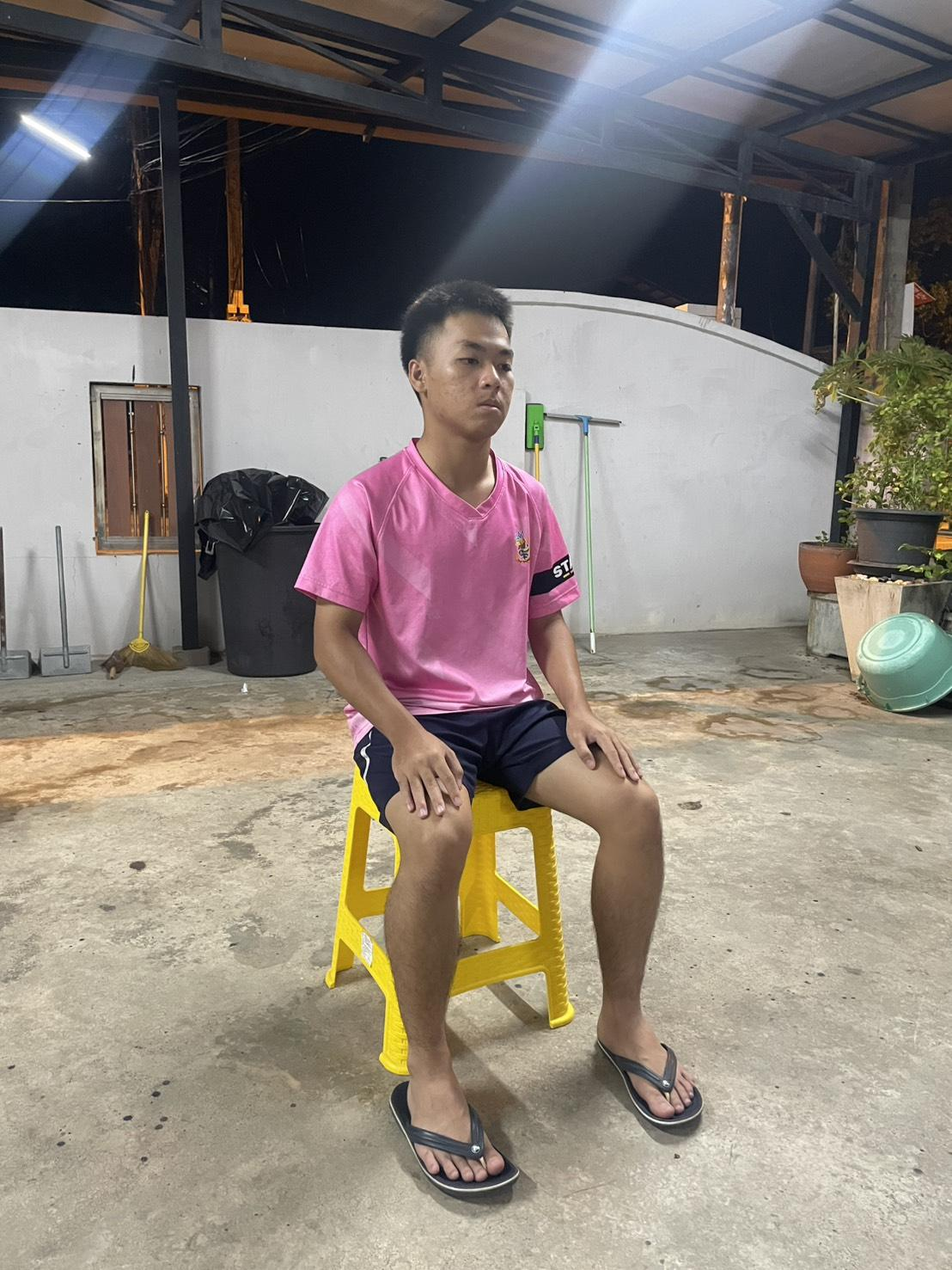GoodPosture: (297, 282, 702, 1196), (297, 279, 588, 718)
